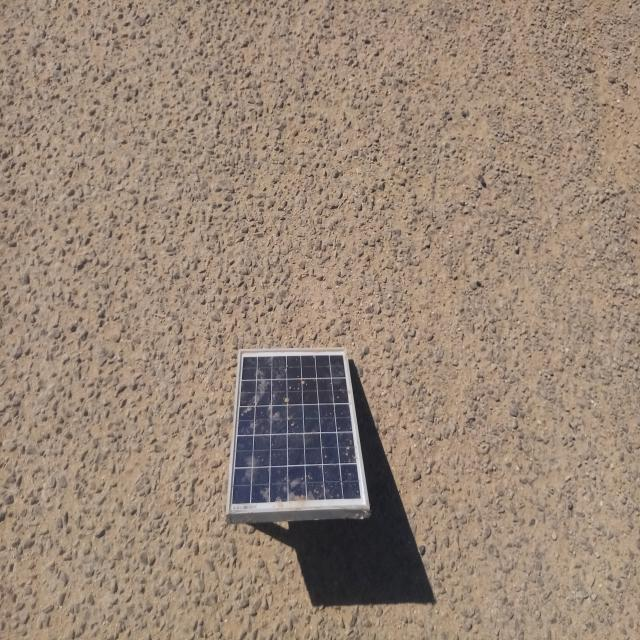faulty: (229, 349, 368, 512)
